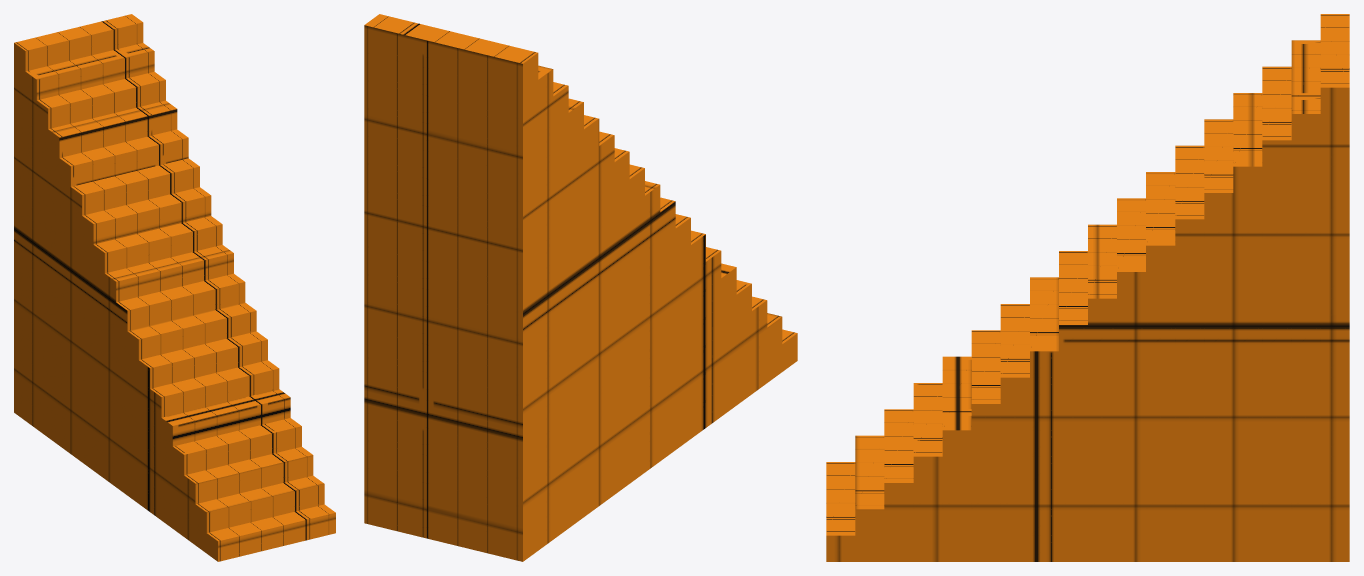
File: stairs1x3x3.fbx
3 renders of one model, left to right at view 1: azimuth 30°, elevation 25°; view 2: azimuth 150°, elevation 25°; view 3: azimuth 270°, elevation 25°, orthographic. The views are drawn at different scales.
Parts seen in each view (by area): view 1: stairs1x3x3; view 2: stairs1x3x3; view 3: stairs1x3x3.
Boxes of the visible parts, <box> form: stairs1x3x3: <box>14,14,335,561</box>; stairs1x3x3: <box>364,14,797,561</box>; stairs1x3x3: <box>826,14,1349,561</box>.
Size of the model in its own units: 100 by 300 by 300.
Materials: 1 (1 with a texture image).
